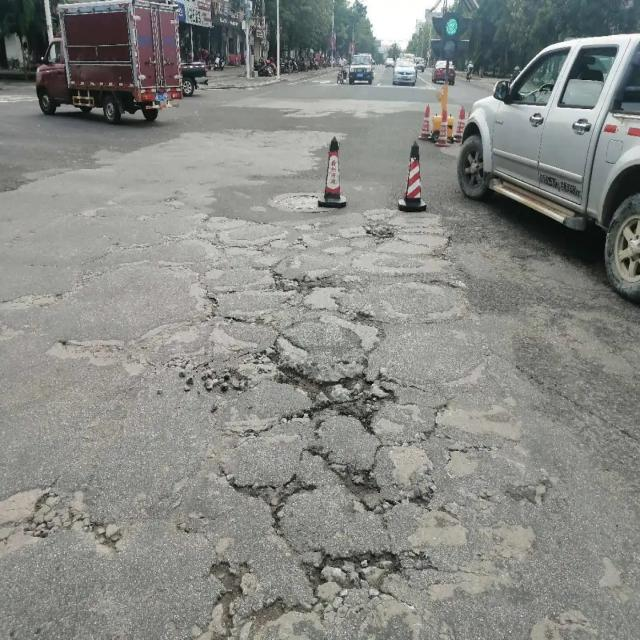Pothole: (22, 480, 148, 570), (226, 452, 402, 512), (298, 535, 427, 616), (265, 357, 399, 434), (258, 263, 350, 312), (351, 215, 406, 248)
